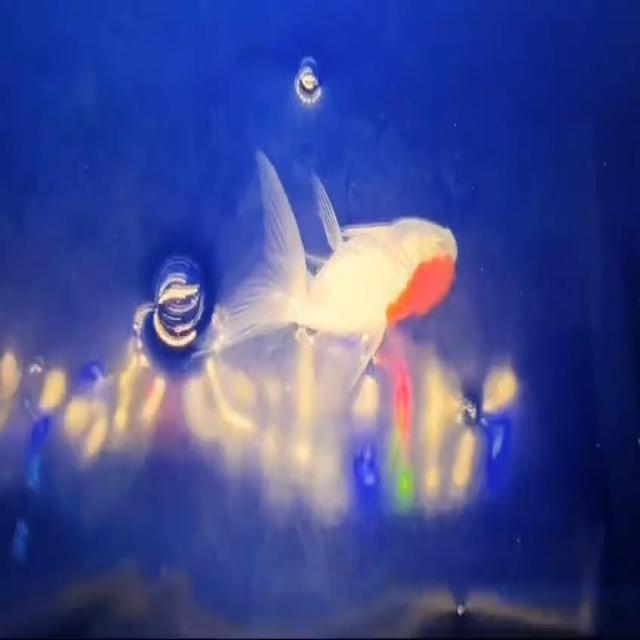fish: (216, 130, 464, 393)
